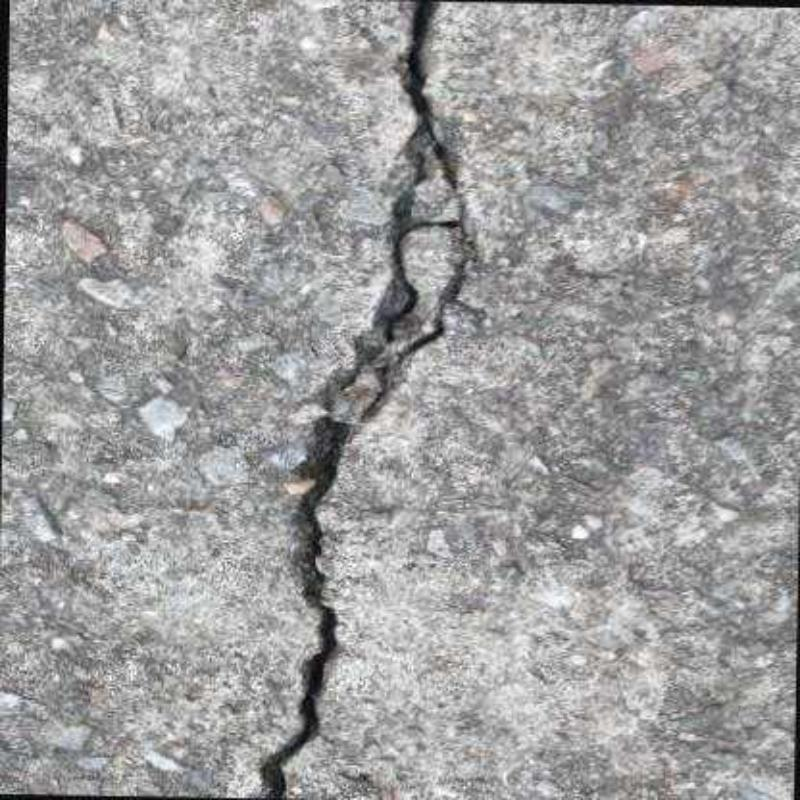crack: (265, 0, 472, 798), (333, 129, 458, 396)
